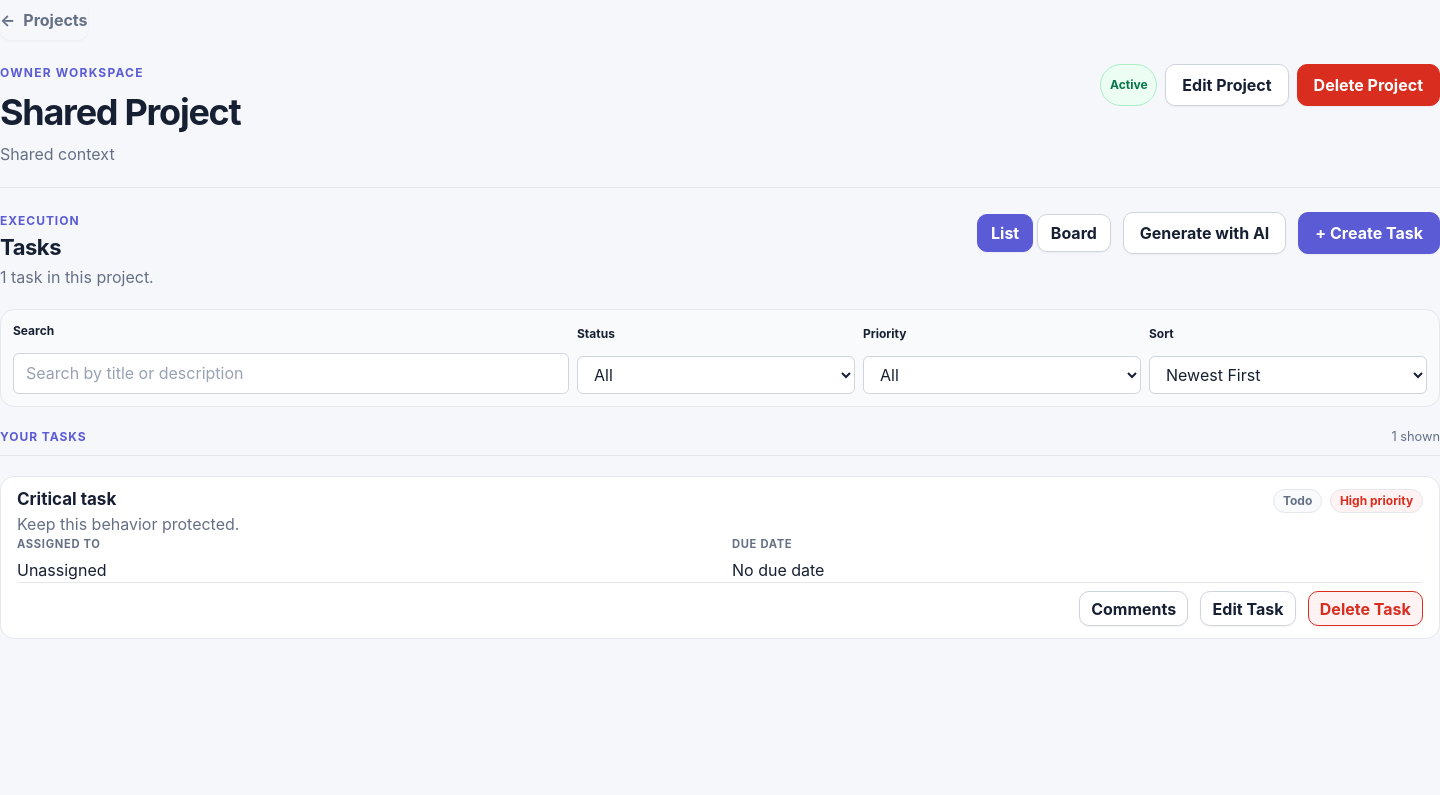
Test case: Project Details permission visibility › preserves tasks and prevents duplicate AI generation after a provider failure
This screenshot has width=1440, height=795.
expect the heading "Critical task" is shown: met, box [17,489,116,509]
Click the button "Generate with AI": (1205, 233) [1123,212,1286,254]
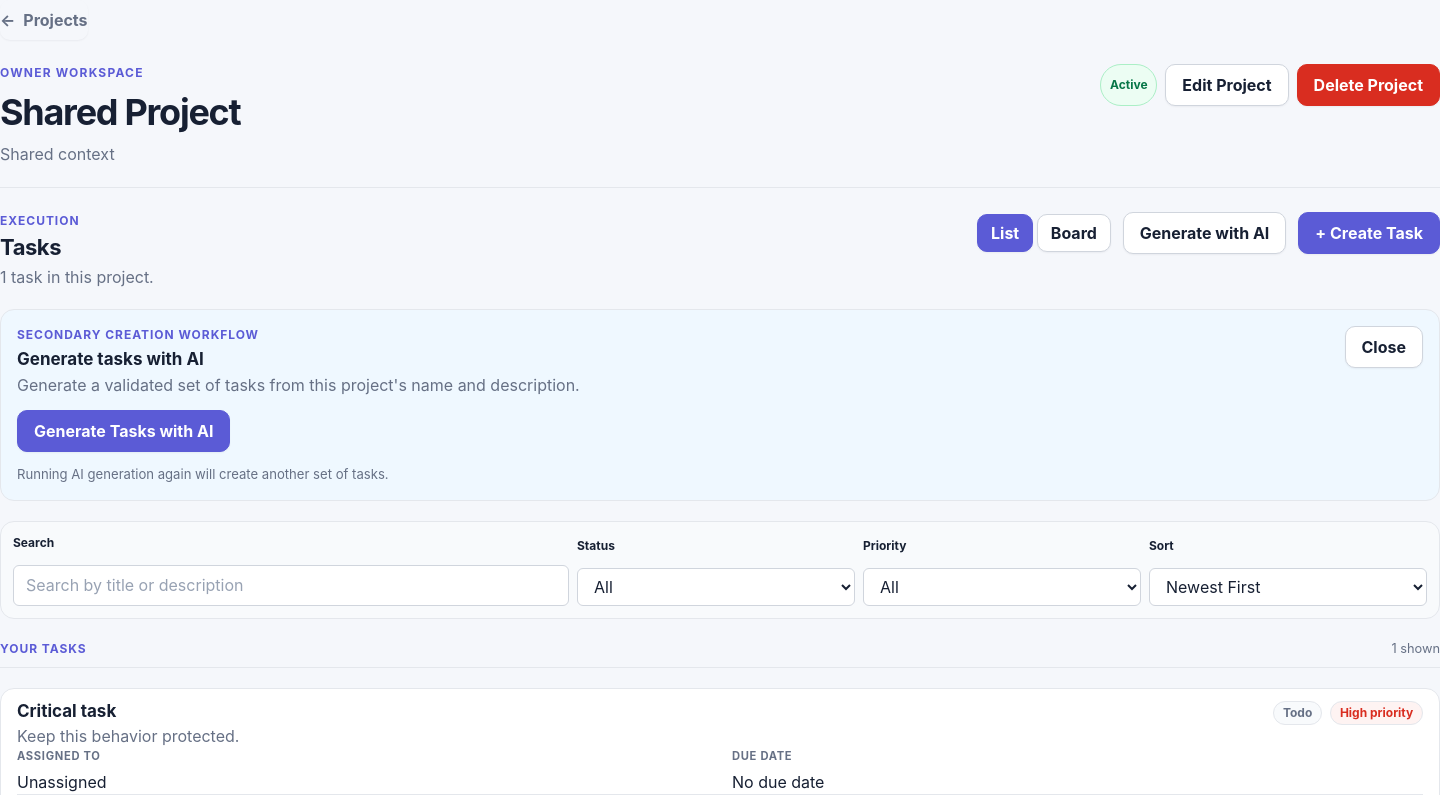
Click the button "Generate Tasks with AI": (124, 431) [17,410,230,452]
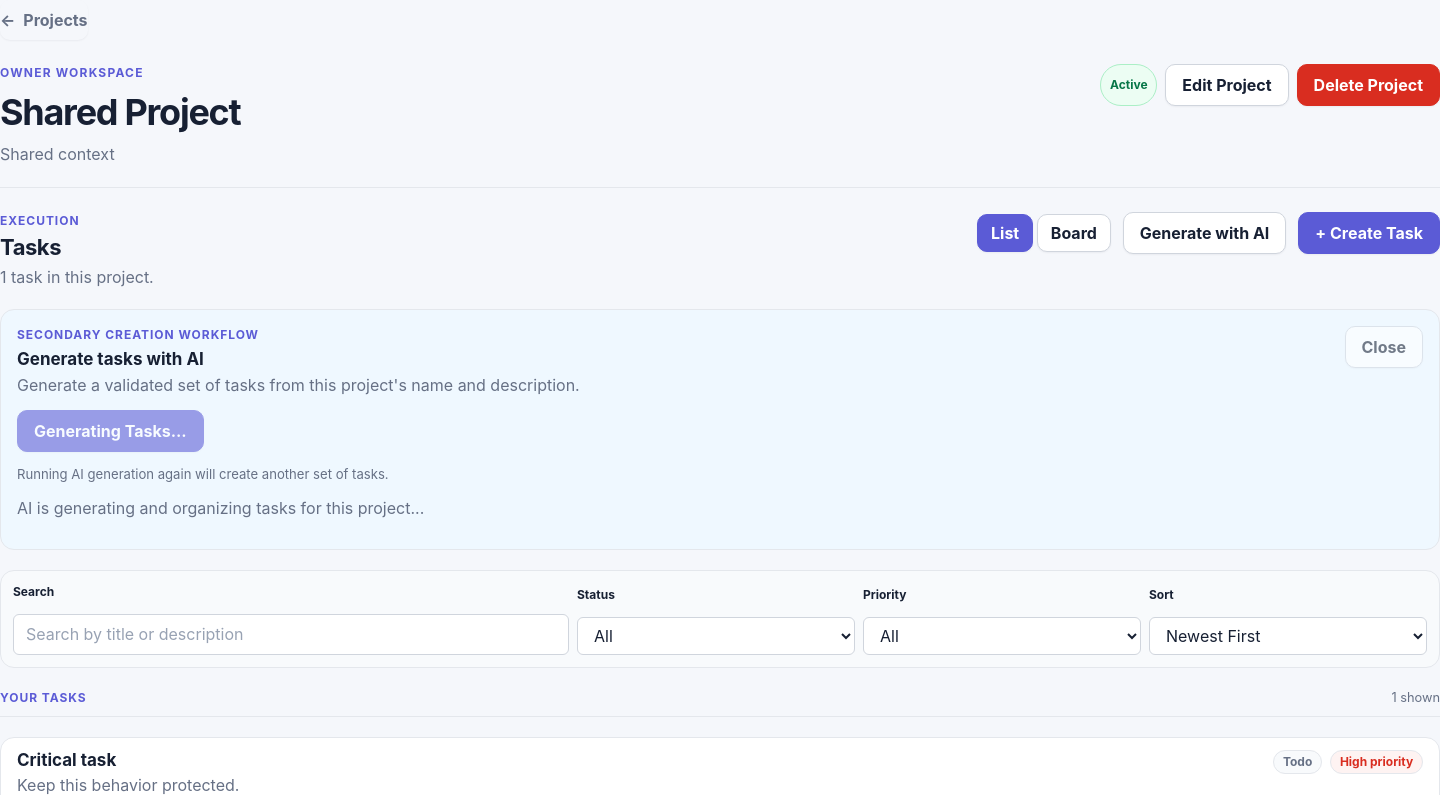
Click the button named "Generate Tasks with AI": (110, 431) [17,410,204,452]
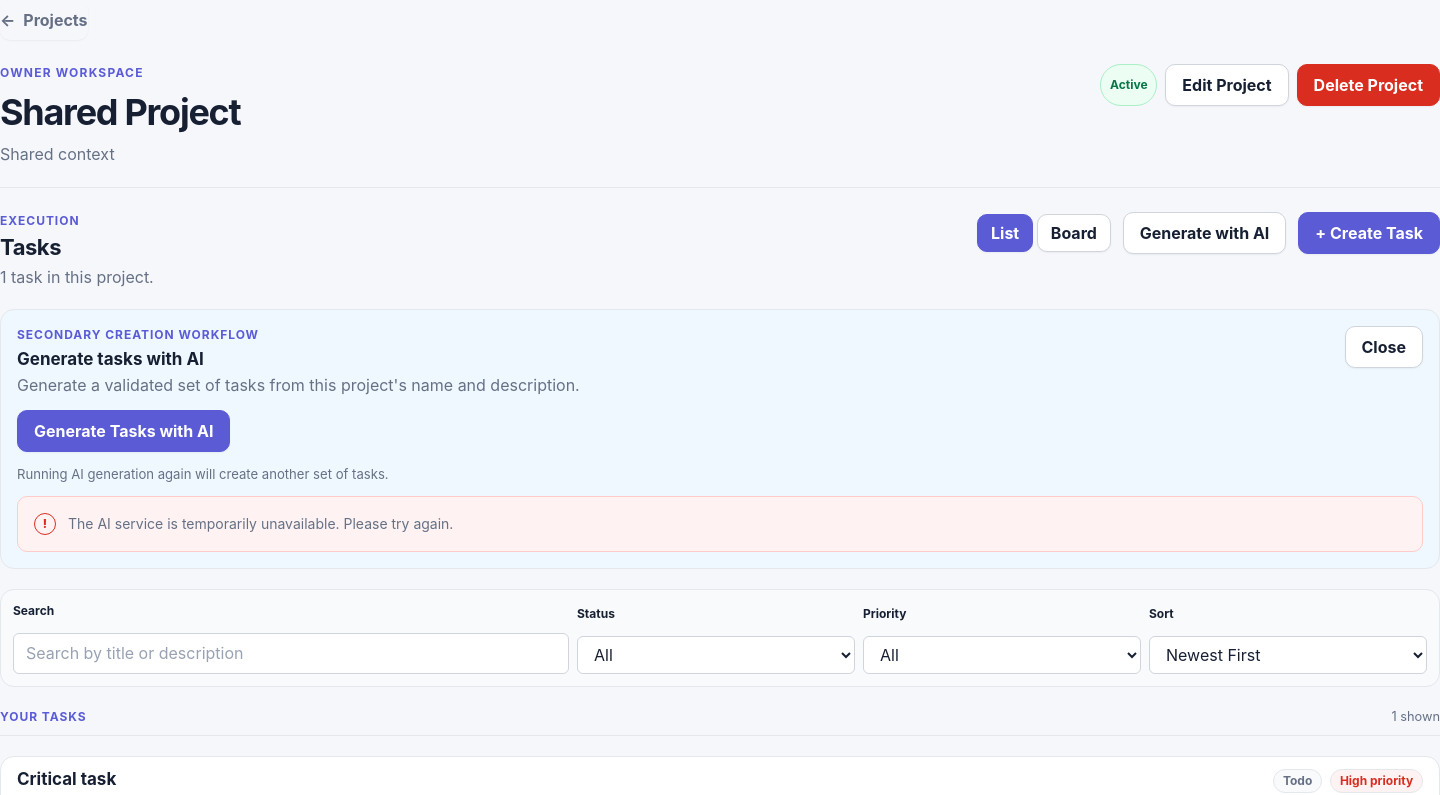
expect the heading "Critical task" is shown: met, box [17,769,116,790]
expect the message shows "The AI service is temporarily unavailable. Please try again.": met, box [68,516,453,532]
expect the button "Generate Tasks with AI" is enabled: met, box [17,410,230,452]
